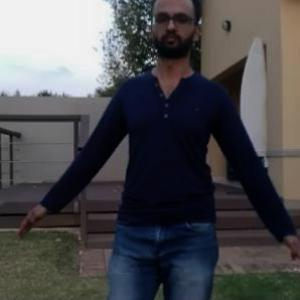land: (64, 28, 296, 299)
